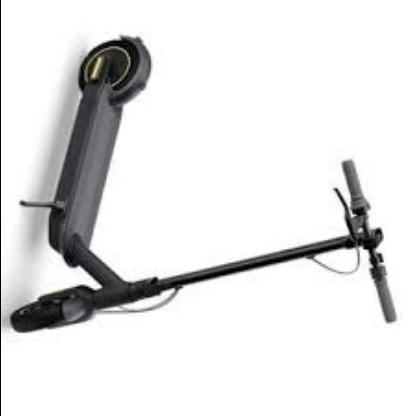bike: (9, 34, 398, 334)
